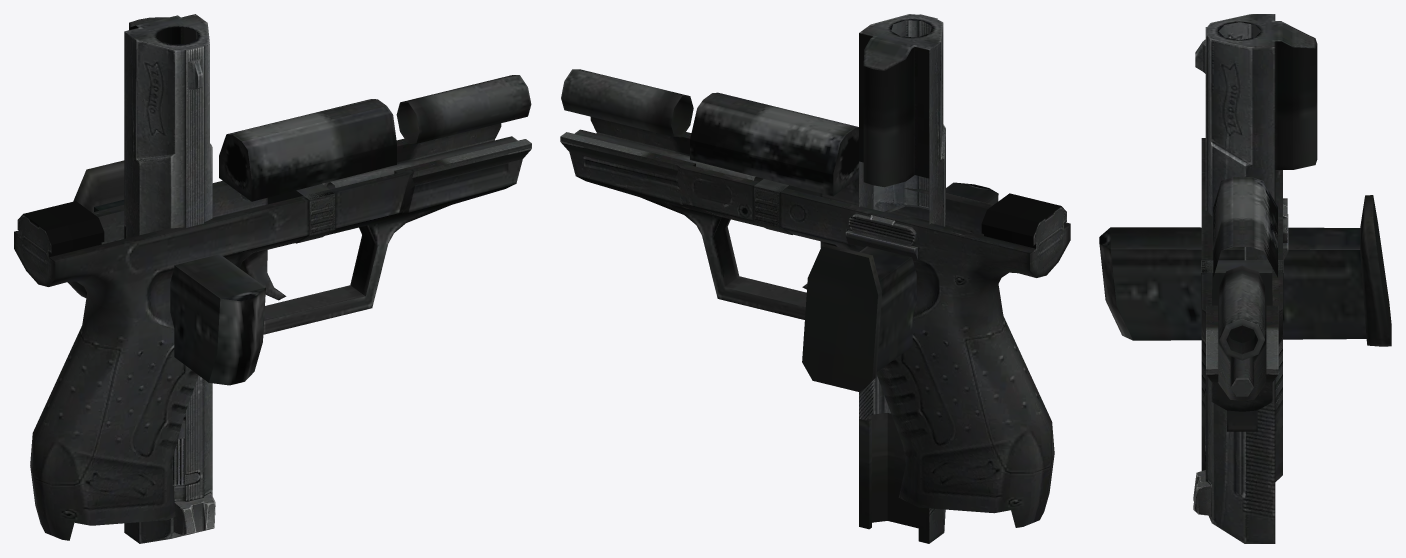
Rendered from P99-Hak_CIC.obj.
3 views of the same model, side by side, from view 1: azimuth 30°, elevation 25°; view 2: azimuth 150°, elevation 25°; view 3: azimuth 270°, elevation 25° (orthographic).
Parts seen in each view (by area): view 1: Part_2, Part_0, Part_1; view 2: Part_2, Part_0, Part_1; view 3: Part_0, Part_1, Part_2.
Boxes of the visible parts, x1,y1,x2,y2 form: Part_2: (14,75,531,540); Part_0: (124,14,215,543); Part_1: (67,160,265,385); Part_2: (560,69,1070,527); Part_0: (859,14,945,543); Part_1: (802,182,998,392); Part_0: (1193,14,1317,543); Part_1: (1099,195,1391,346); Part_2: (1201,138,1288,481).
Bounding box in the file's own units: 0.179 × 0.1765 × 0.0942.
1 material, 1 textured.
